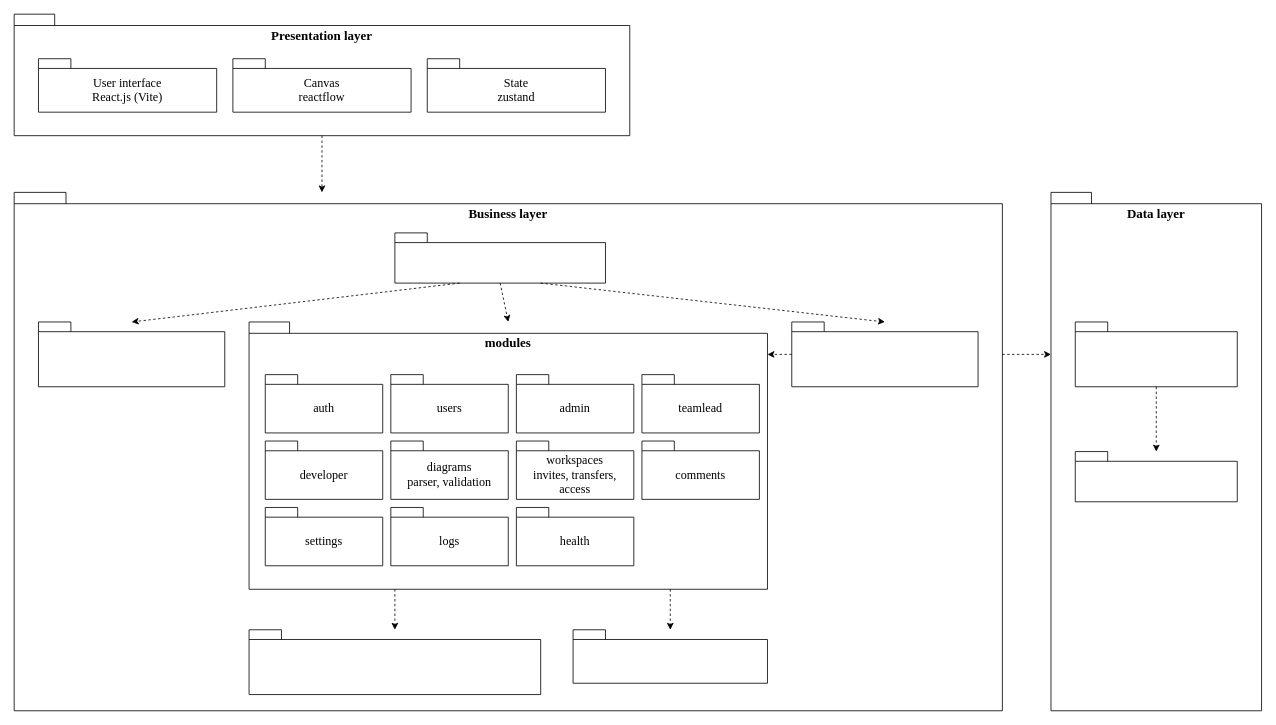
Image size: 1276x725. Some labels were removed from this diagram. Here are the shapes that lost their labels. From the top down, the centre of each, then its label:
At point (499, 257): "Application app.js, server.js".
At point (131, 354): "middleware auth, errorHandler, requestId".
At point (884, 354): "sockets index, registry".
At point (1155, 354): "db pool, transaction, migrate".
At point (1155, 476): "PostgreSQL 17".
At point (394, 662): "shared mailer, passwordReset, httpError, schemaModel".
At point (669, 656): "config".
